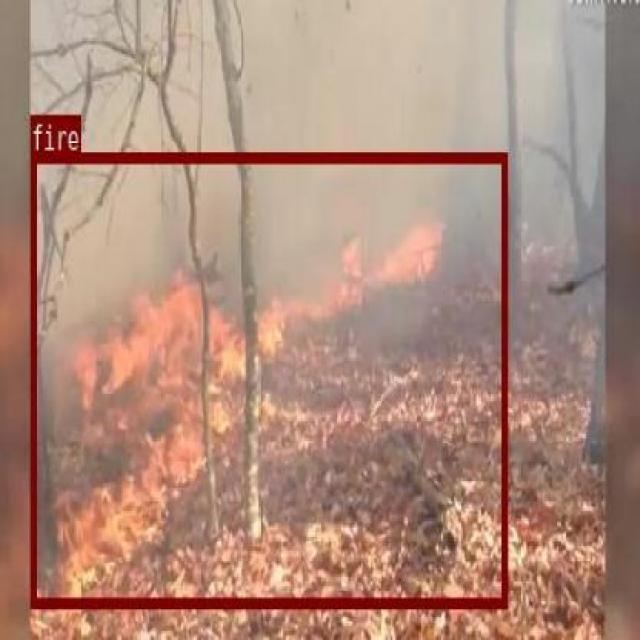Fire: (268, 378, 477, 457)
